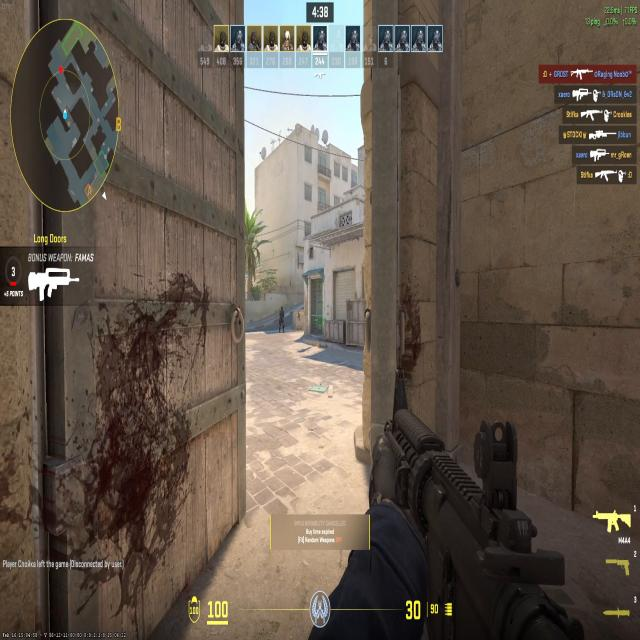player: (278, 303, 285, 335)
